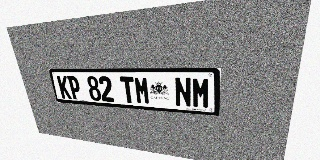2: (98, 76, 114, 102)
8: (86, 76, 102, 101)
K: (57, 76, 72, 99)
M: (192, 77, 210, 109), (134, 77, 151, 105)
N: (174, 77, 192, 107)
P: (67, 76, 82, 100)
T: (120, 76, 136, 104)
